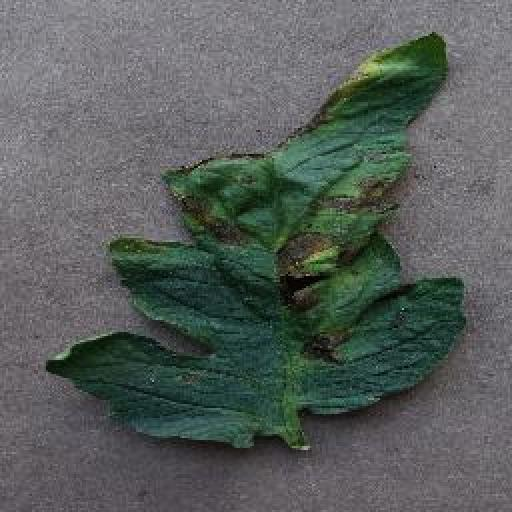disease_tomato: (42, 32, 468, 452)
